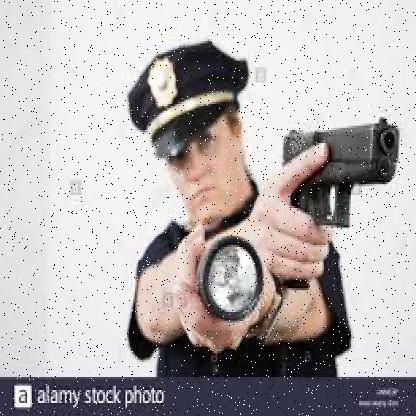pistol: (281, 117, 403, 295)
